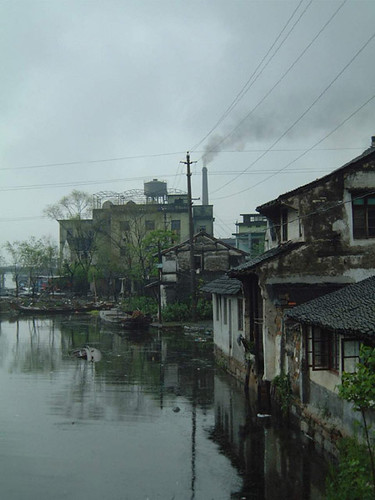building: (218, 150, 375, 443), (37, 182, 209, 289), (151, 238, 242, 315)
river: (6, 320, 303, 500)
sky: (1, 1, 375, 168)
